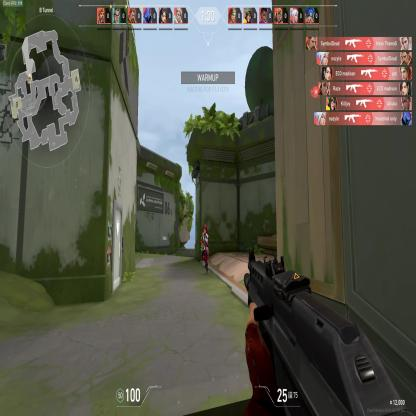enemy: (199, 223, 209, 274)
